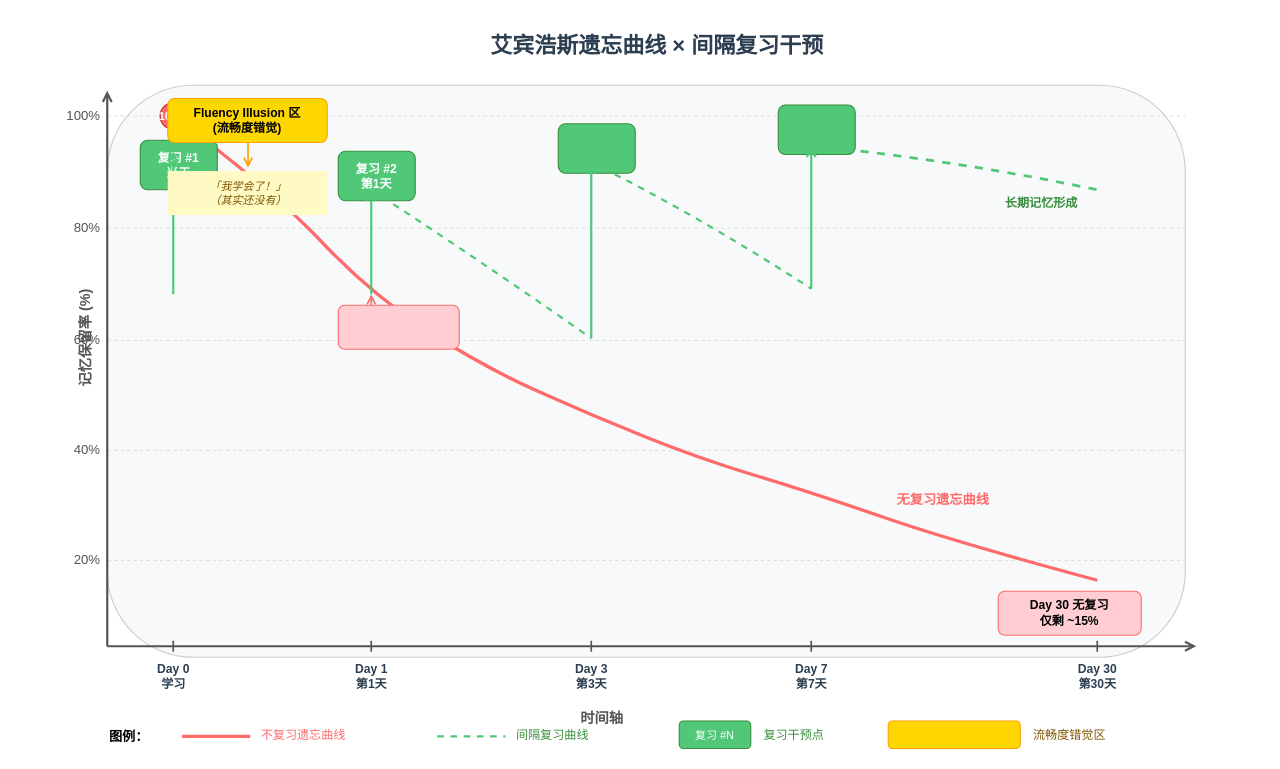
The diagram is 1280 pixels wide and 769 high, and some of its shapes have lost their labels. Here are the shapes that lost their labels. From the top down, the centre of each, then its label:
At pixel 596 148: "复习 #3 第3天".
At pixel 816 129: "复习 #4 第7天".
At pixel 398 326: "24小时后 遗忘 70%+".
At pixel 953 734: "Fluency Illusion".
